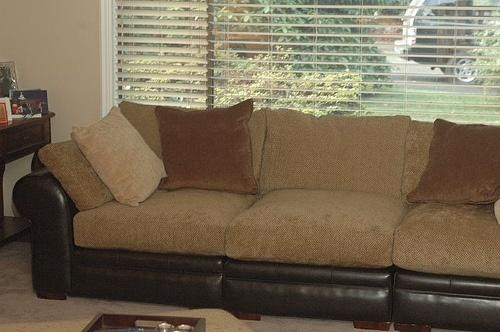car: (397, 1, 500, 84)
sofa: (16, 105, 498, 330)
